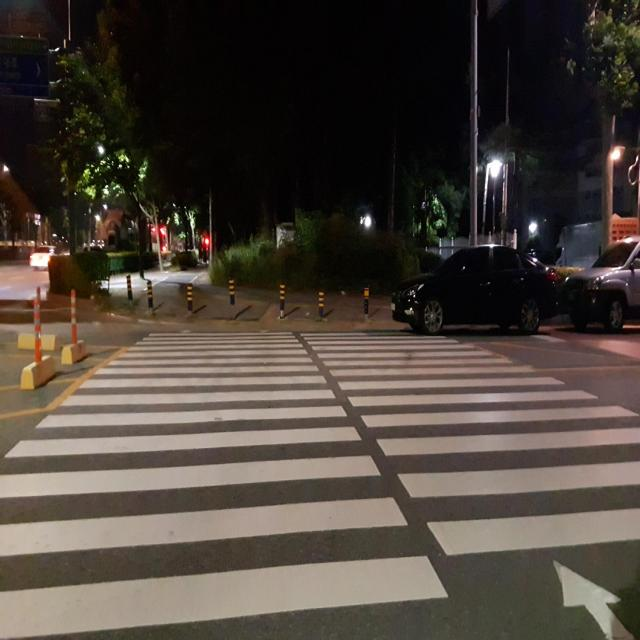횡단보도: (0, 330, 640, 639)
